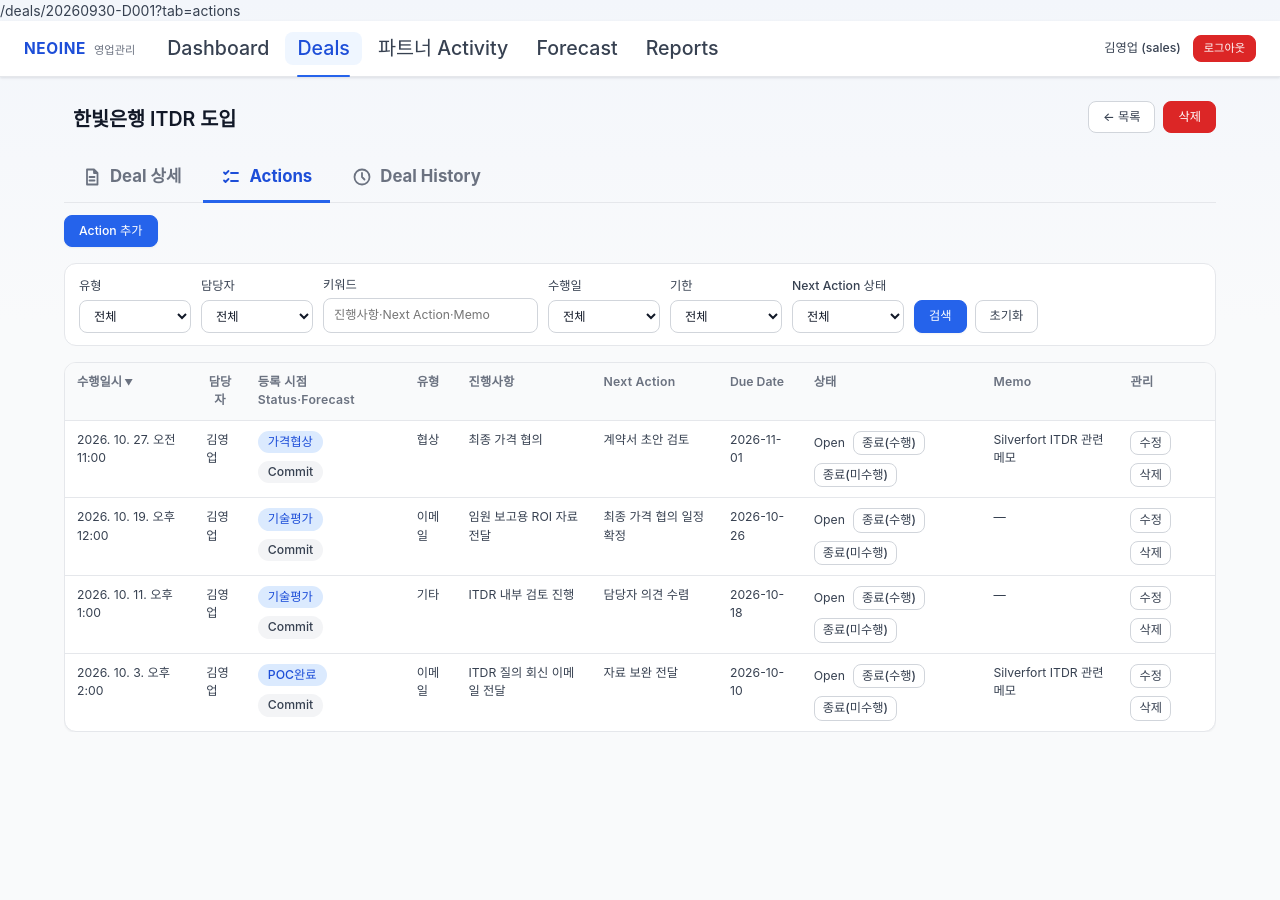
Test: Action 추가 등록 (T-ACTION-02~05) › shows the type, "progress or Next Action" and Due Date messages and focuses the type first (AC-27)
Expected: the heading "한빛은행 ITDR 도입" is shown, [64,101,245,138]
Click the button "Action 추가".
click(111, 231)  # box [64,215,158,247]
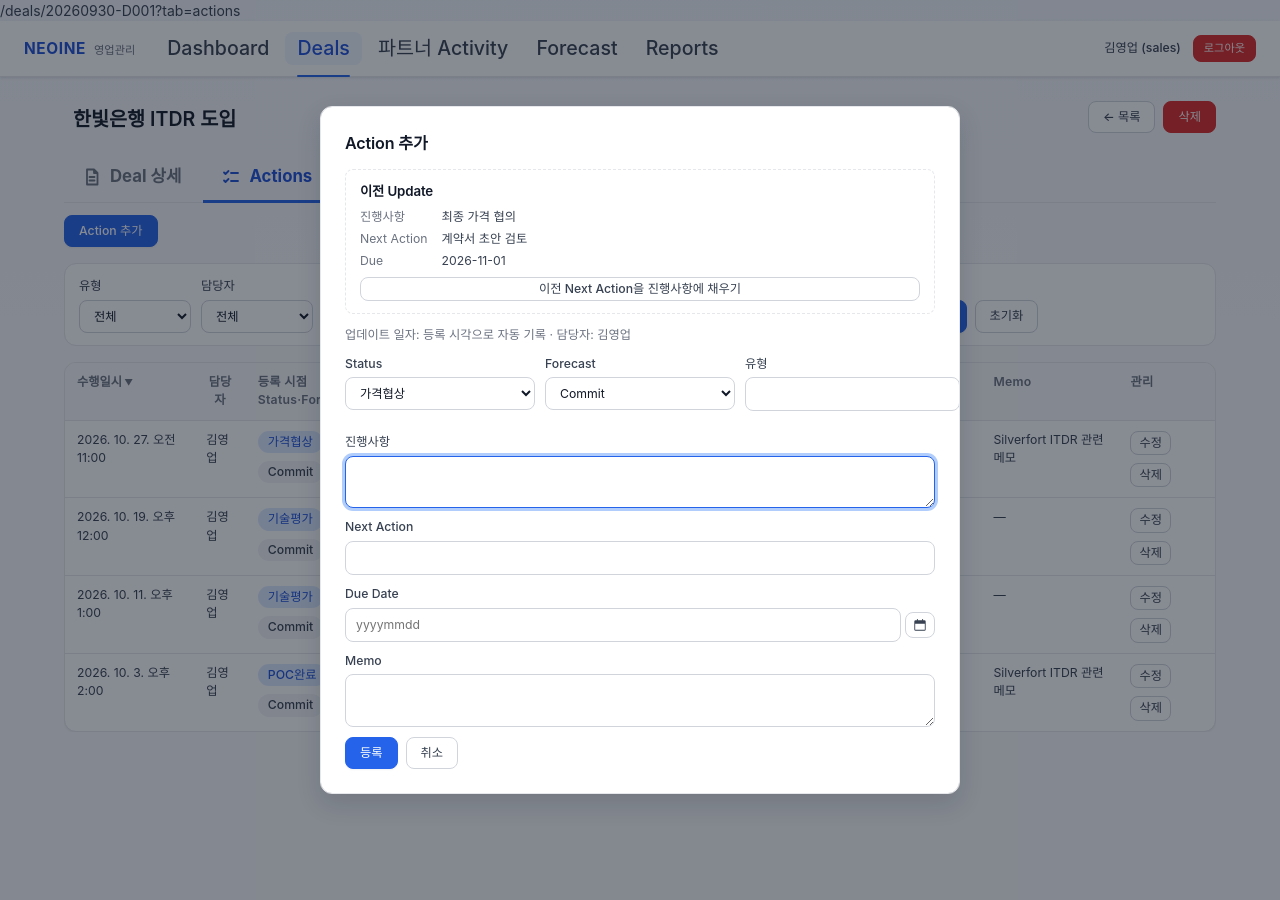
Click the button "등록".
click(371, 753)  # box [345,737,398,769]
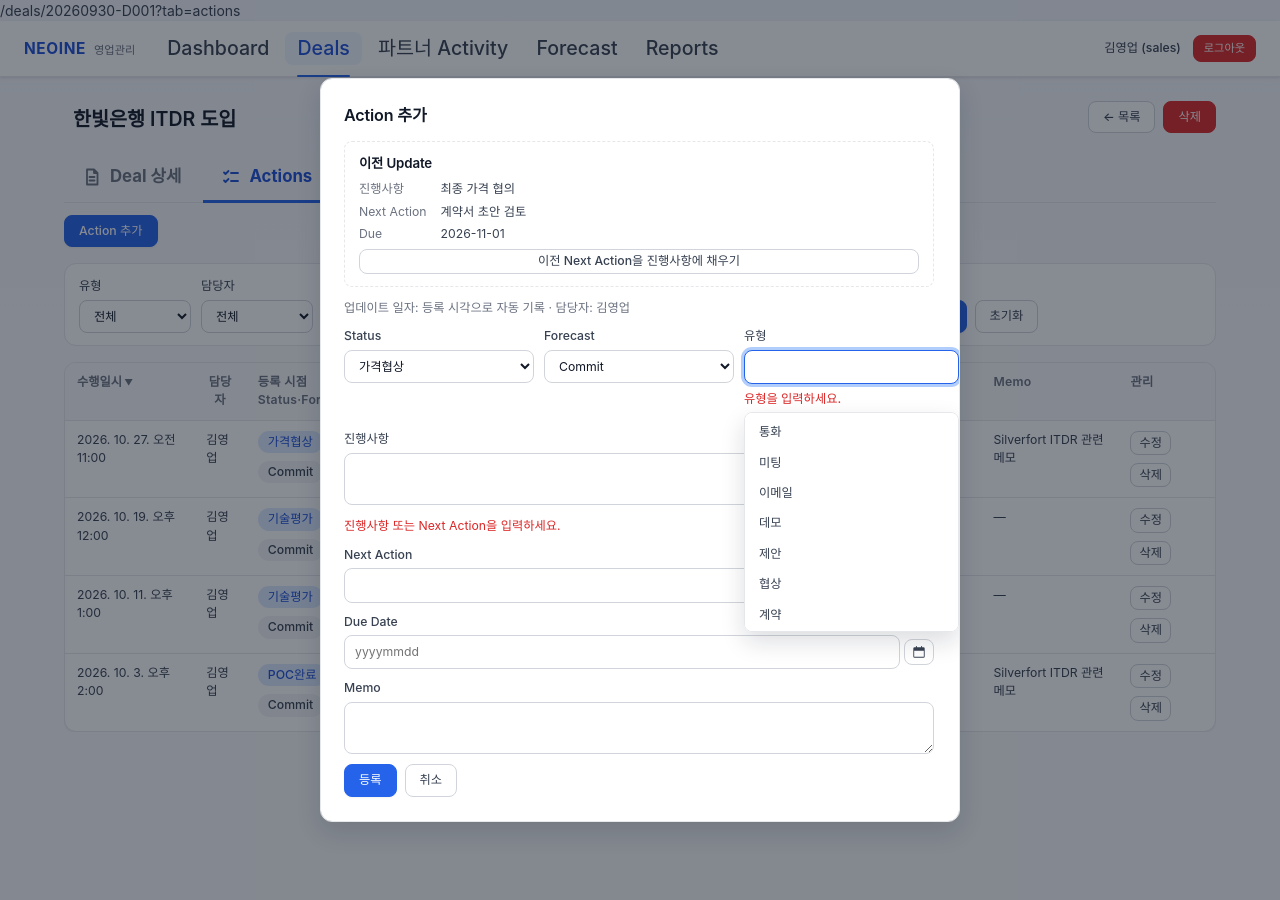
Expected: the text "Due Date를 입력하세요." is not shown
Expected: the text "유형을 입력하세요." is shown, [744,391,841,406]
Expected: the text "진행사항 또는 Next Action을 입력하세요." is shown, [344,518,561,533]
Type "다음 할 일" into the field labelled "Next Action".
click(639, 585); type("다음 할 일")  # box [344,568,934,603]
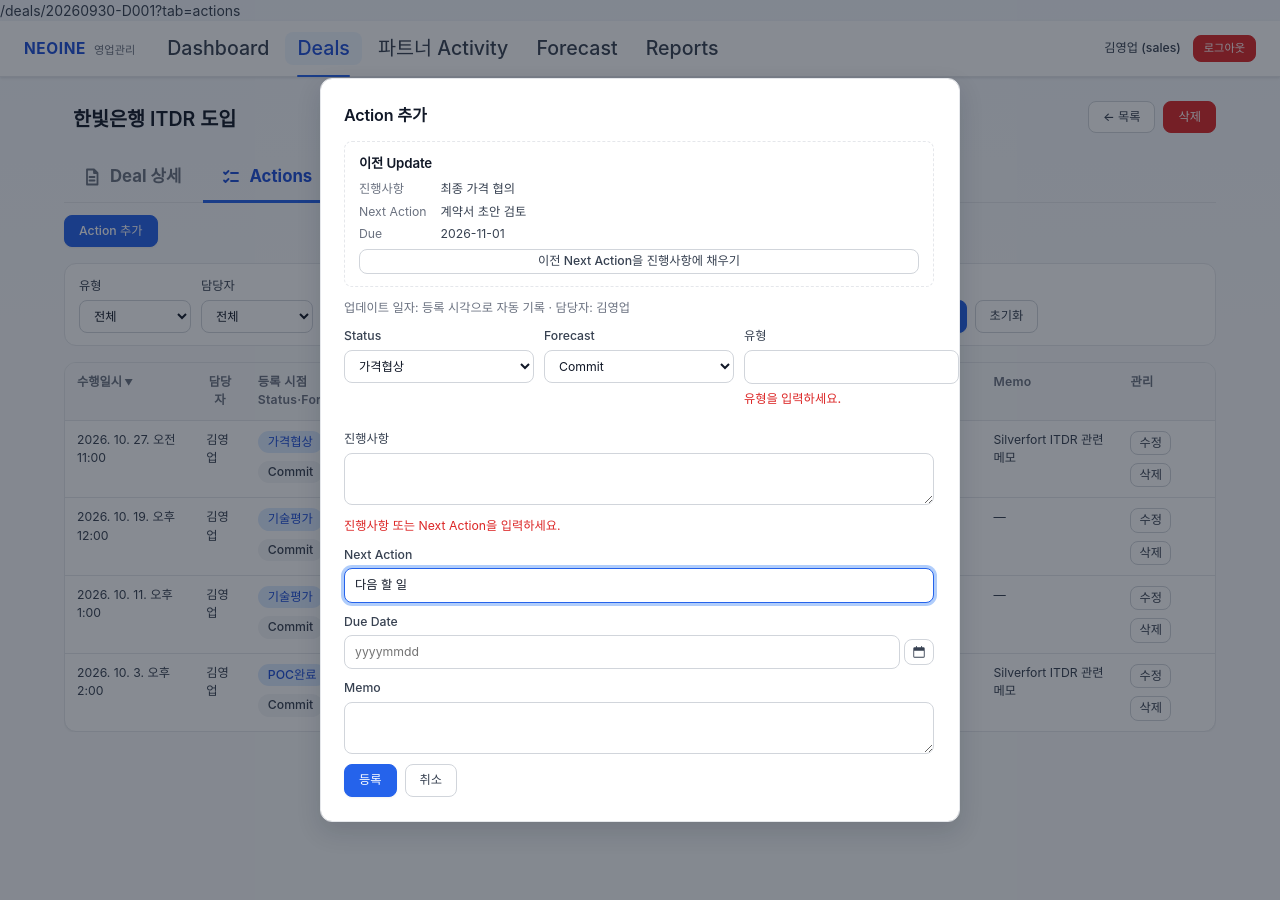
Click the button "등록".
click(370, 781)  # box [344,764,396,797]
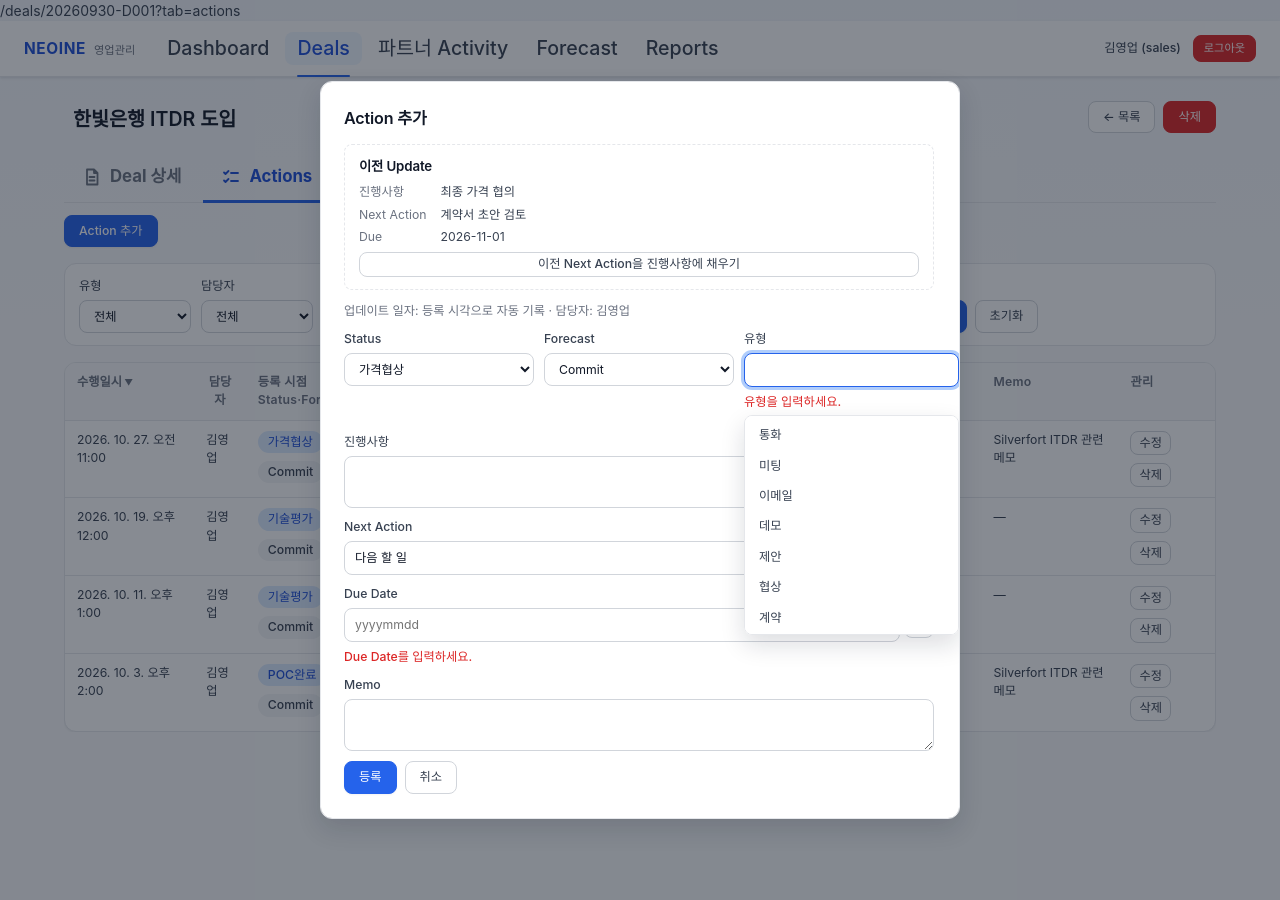
Expected: the text "Due Date를 입력하세요." is shown, [344,649,472,664]
Expected: the text "진행사항 또는 Next Action을 입력하세요." is gone
